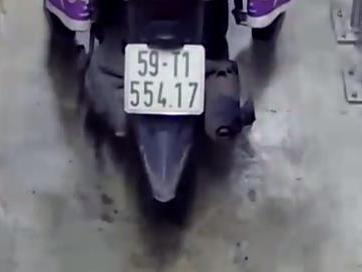num_plate: (122, 42, 206, 115)
